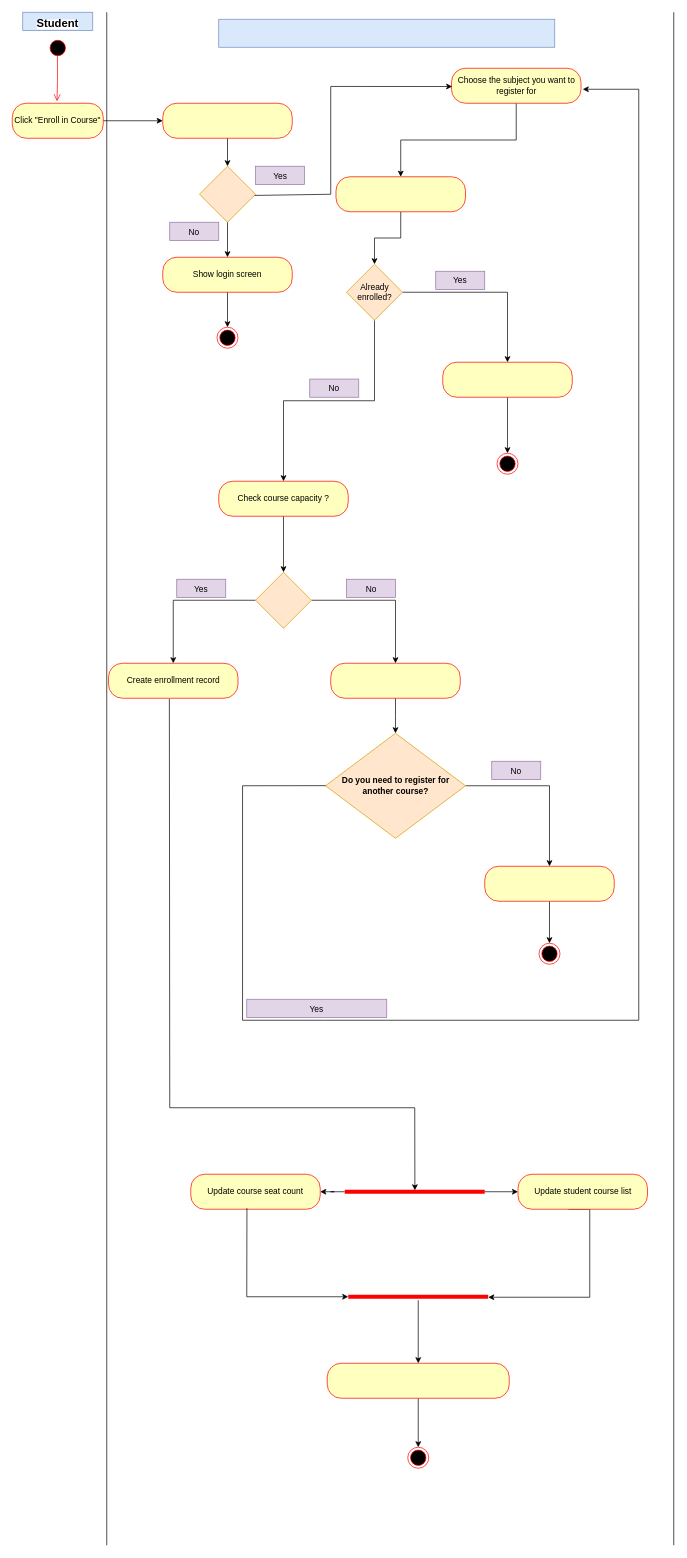
Some shapes in this 687 by 1558 pixel diagram are drawn without their labels. The shapes that lost their labels are listed below. From the top down, each one's box as (x1, y1, x2, y2) in pixels, then its label:
(218, 19, 555, 47): System
(162, 103, 292, 138): Check if user is logged in?
(199, 166, 255, 222): Logged in?
(335, 176, 465, 212): Check if already enrolled?
(442, 362, 572, 397): Display "Already Enrolled"
(255, 572, 312, 628): Seats available?
(330, 663, 460, 698): Show " No places available "
(484, 866, 614, 901): Display the logout message
(327, 1363, 509, 1398): :Display "Enrollment Successful" message
